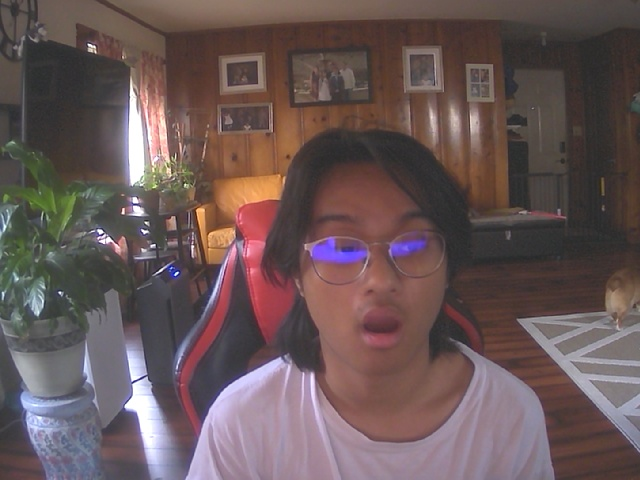fear: (283, 143, 462, 382)
